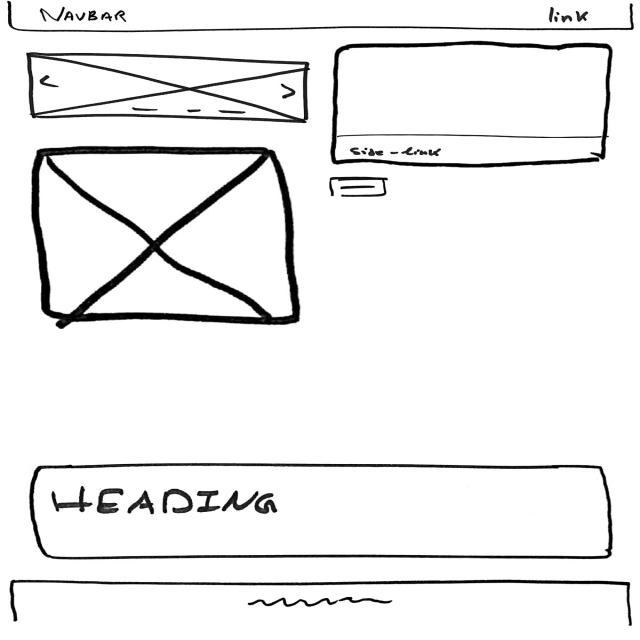container: (28, 463, 614, 562), (330, 44, 616, 168), (3, 0, 635, 32)
image: (32, 145, 300, 325), (24, 49, 313, 125)
label: (50, 484, 281, 518), (39, 3, 132, 24), (346, 145, 444, 158), (546, 5, 592, 24)
text: (248, 594, 394, 610)
